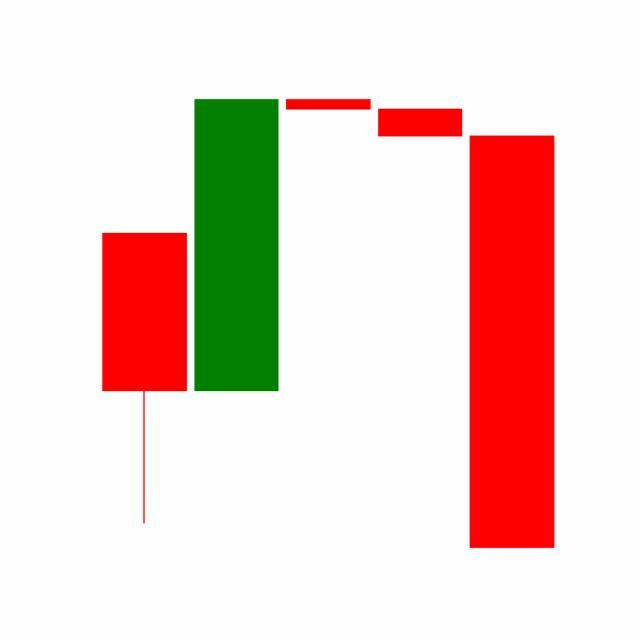Marubozu: (466, 132, 559, 553)
